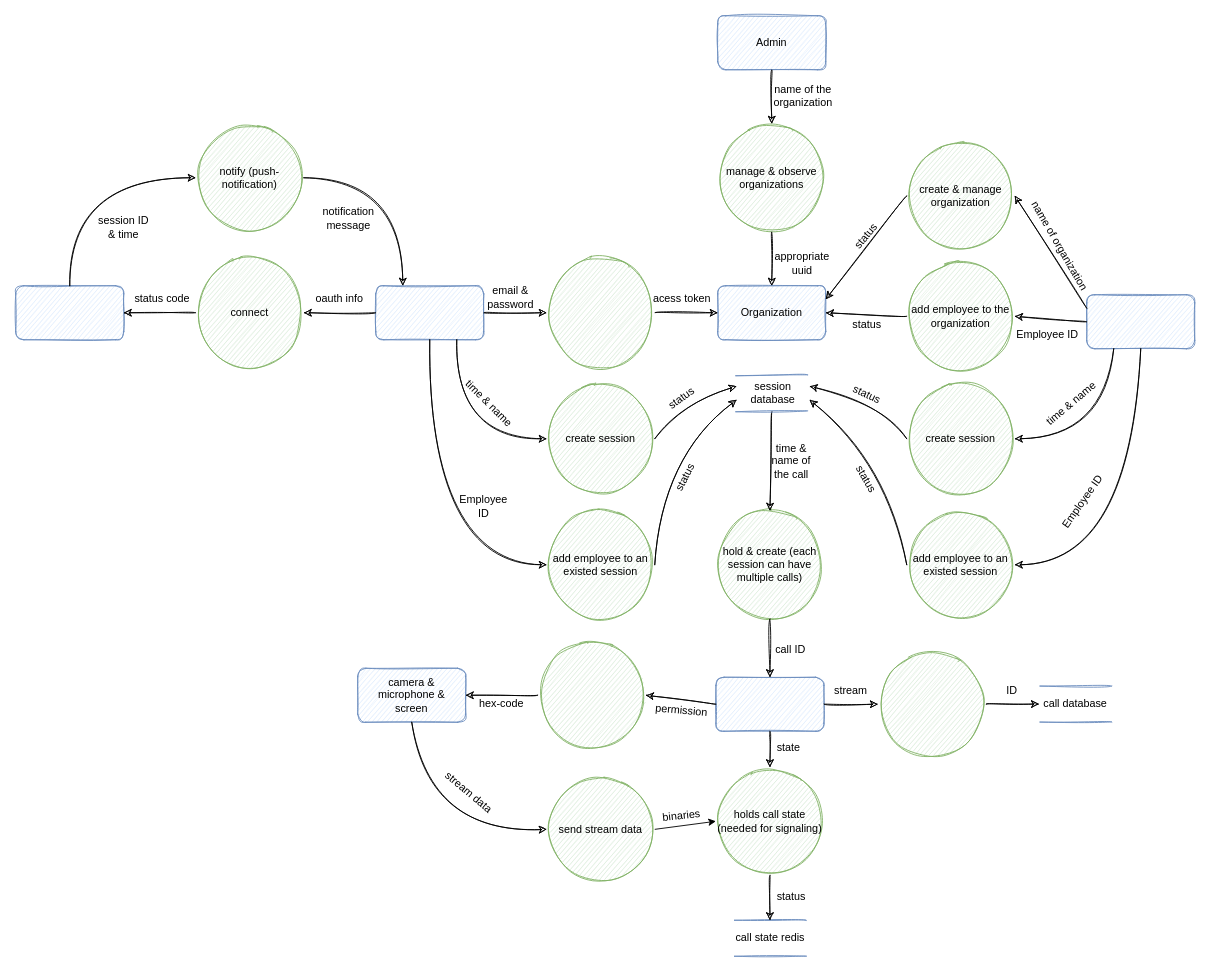
Some shapes in this 1211 by 973 pixel diagram are drawn without their labels. The box of each missing label's shape, as (x1, y1, x2, y2) in pixels:
authenticate to the oraganization: (546, 258, 655, 367)
Calendar: (15, 285, 124, 340)
Call: (715, 676, 824, 731)
Employee: (375, 285, 484, 340)
Employer: (1086, 294, 1195, 349)
store call data: (877, 649, 986, 758)
use device (each call can uses user devices): (537, 640, 646, 749)
